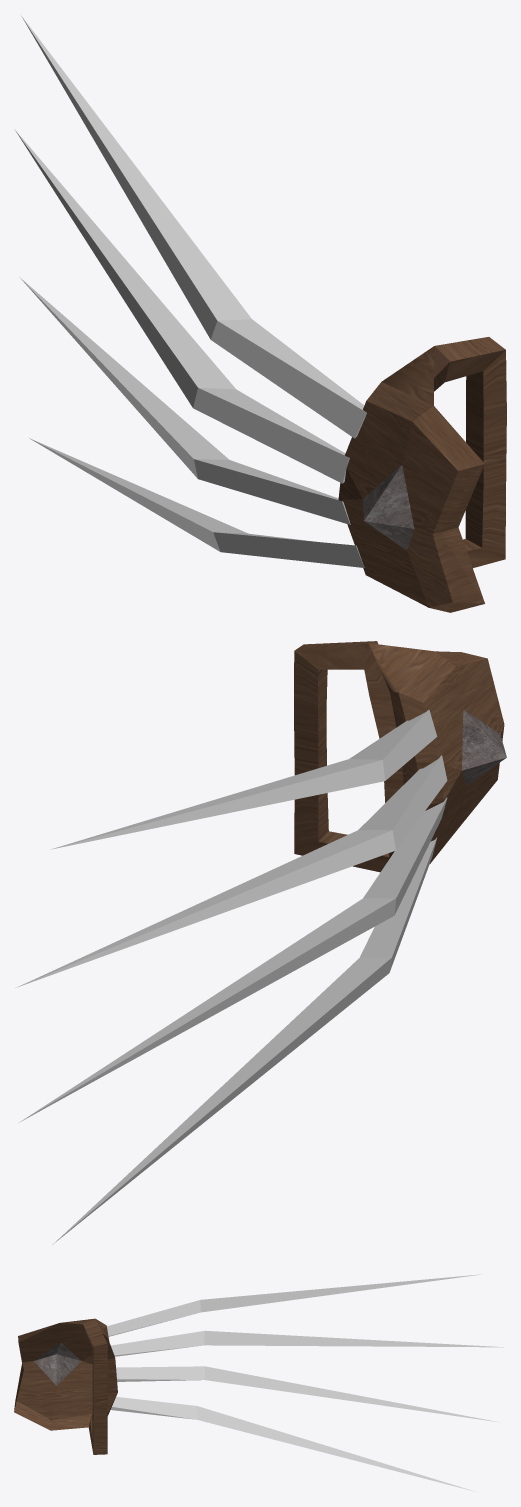
Rendered from Claws.fbx.
The picture shows the model from 3 angles, top to bottom: view 1: azimuth 30°, elevation 25°; view 2: azimuth 150°, elevation 25°; view 3: azimuth 270°, elevation 25°; orthographic projection. The views are drawn at different scales.
Visible parts, largest first — view 1: Chr_HandRight_Male_02; view 2: Chr_HandRight_Male_02; view 3: Chr_HandRight_Male_02.
Boxes of the visible parts, box(x1,y1,x2,y2) form: Chr_HandRight_Male_02: box(14, 15, 506, 612); Chr_HandRight_Male_02: box(16, 641, 506, 1244); Chr_HandRight_Male_02: box(14, 1274, 503, 1491).
Size of the model in its own units: 10.6 by 20.65 by 42.29.
